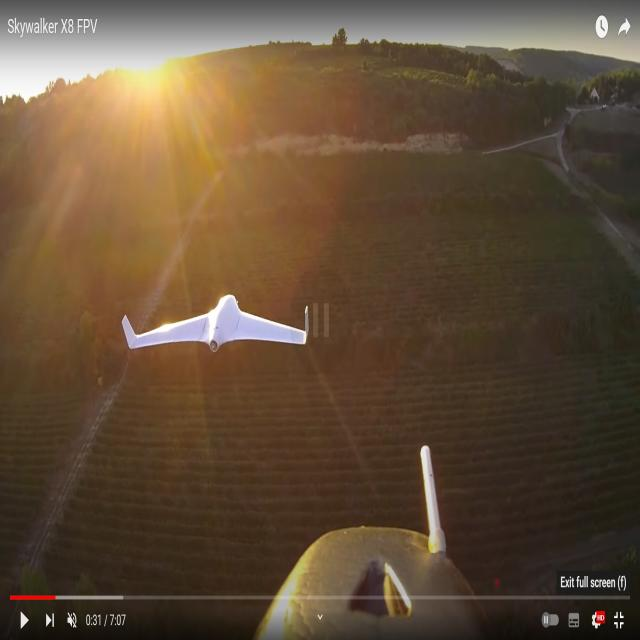iha: (120, 292, 312, 352)
